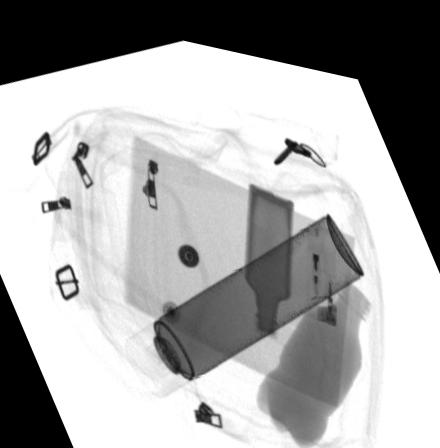Lighter: (309, 233, 337, 309)
Sprayer: (125, 195, 365, 390)
